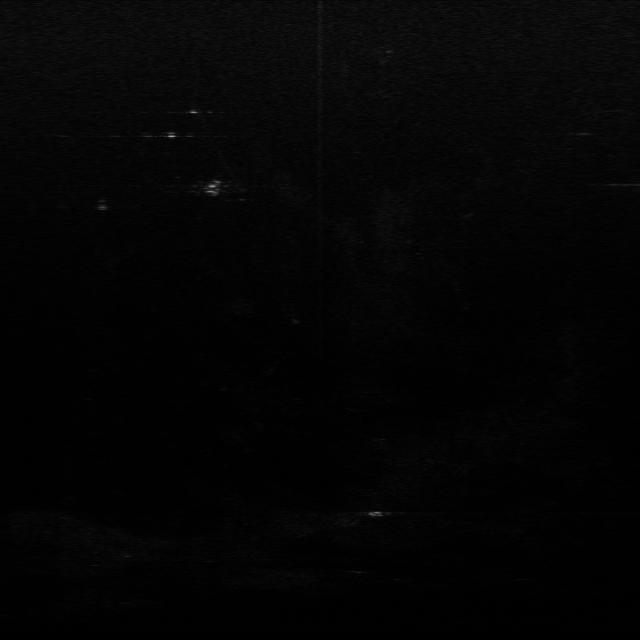rov: (202, 178, 223, 197)
